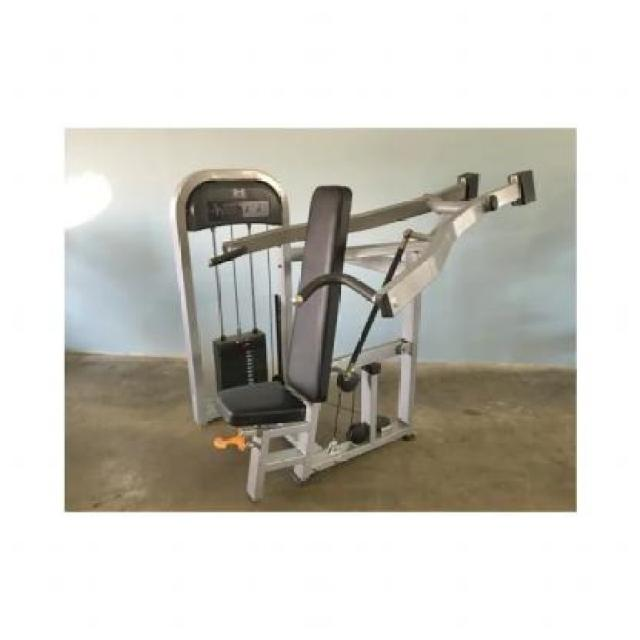shoulder press machine: (163, 152, 546, 510)
